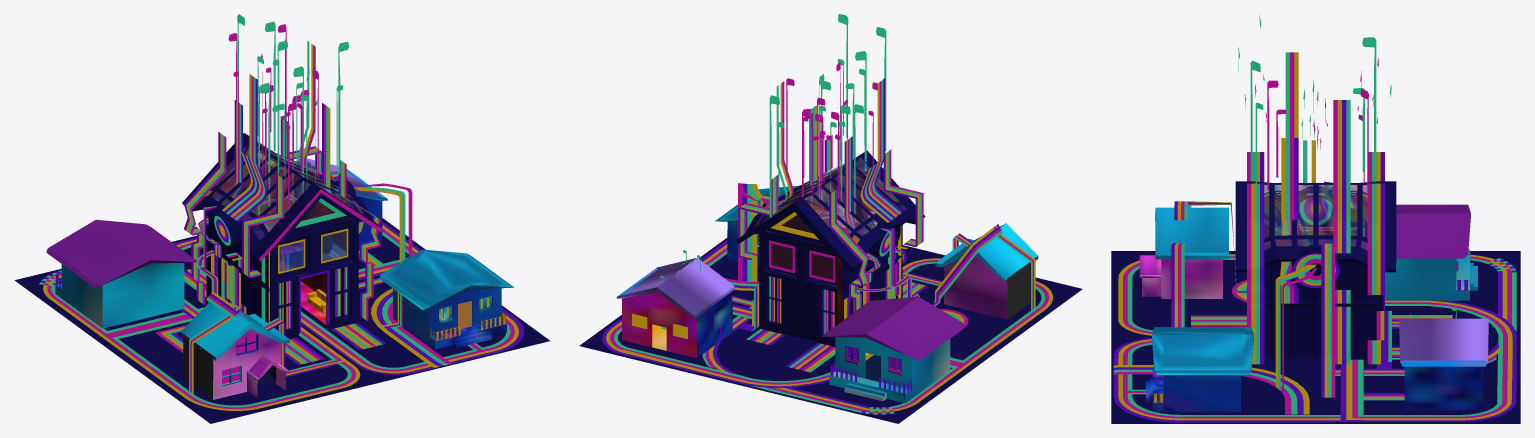
Rendered from houseofhouse.glb.
The picture shows the model from 3 angles, left to right: view 1: azimuth 30°, elevation 25°; view 2: azimuth 150°, elevation 25°; view 3: azimuth 270°, elevation 25°; orthographic projection. The views are drawn at different scales.
Visible parts, largest first — view 1: Big house, Plane, 03. Yellow_house, 04. Blue_house, Plane.002, 02. Green_house, Plane.003, nota.010, Cube.028, nota.001, Cube.021, Cube.030 (+7 smaller); view 2: Big house, Plane, 03. Yellow_house, 01. Pink_house, Plane.003, 02. Green_house, Plane.002, nota.010, Cube.028, nota.001, Cube.021, Cube.029 (+5 smaller); view 3: Plane, Big house, Plane.002, 04. Blue_house, Plane.003, 01. Pink_house, 03. Yellow_house, 02. Green_house, Cube.032, Cube.030, Cube.033, Cube.031 (+5 smaller).
Part boxes in pixels (left/top/right/bottom): Big house: left=182, top=133, right=385, bottom=364; Plane: left=15, top=218, right=549, bottom=423; 03. Yellow_house: left=46, top=219, right=196, bottom=328; 04. Blue_house: left=379, top=249, right=514, bottom=349; Plane.002: left=155, top=183, right=524, bottom=374; 02. Green_house: left=180, top=302, right=289, bottom=399; Plane.003: left=39, top=171, right=384, bottom=410; nota.010: left=237, top=14, right=348, bottom=214; Cube.028: left=222, top=74, right=267, bottom=313; nota.001: left=228, top=24, right=318, bottom=209; Cube.021: left=184, top=132, right=226, bottom=304; Cube.030: left=338, top=160, right=380, bottom=321; Big house: left=736, top=150, right=927, bottom=372; Plane: left=579, top=238, right=1082, bottom=423; 03. Yellow_house: left=821, top=296, right=964, bottom=403; 01. Pink_house: left=616, top=257, right=734, bottom=358; Plane.003: left=702, top=194, right=1052, bottom=414; 02. Green_house: left=935, top=223, right=1038, bottom=319; Plane.002: left=602, top=183, right=968, bottom=387; nota.010: left=769, top=14, right=886, bottom=226; Cube.028: left=860, top=78, right=907, bottom=299; nota.001: left=786, top=62, right=880, bottom=213; Cube.021: left=829, top=189, right=868, bottom=311; Cube.029: left=883, top=149, right=923, bottom=247; Plane: left=1111, top=251, right=1520, bottom=423; Big house: left=1191, top=181, right=1452, bottom=359; Plane.002: left=1113, top=264, right=1516, bottom=422; 04. Blue_house: left=1145, top=327, right=1253, bottom=411; Plane.003: left=1118, top=181, right=1516, bottom=397; 01. Pink_house: left=1399, top=318, right=1488, bottom=409; 03. Yellow_house: left=1385, top=204, right=1477, bottom=300; 02. Green_house: left=1139, top=207, right=1228, bottom=298; Cube.032: left=1333, top=100, right=1350, bottom=364; Cube.030: left=1247, top=183, right=1264, bottom=364; Cube.033: left=1367, top=183, right=1384, bottom=364; Cube.031: left=1280, top=138, right=1298, bottom=303.
Size of what is drawn, in the model's own units: 32 by 26.8 by 32.
12 materials, 6 textured.
